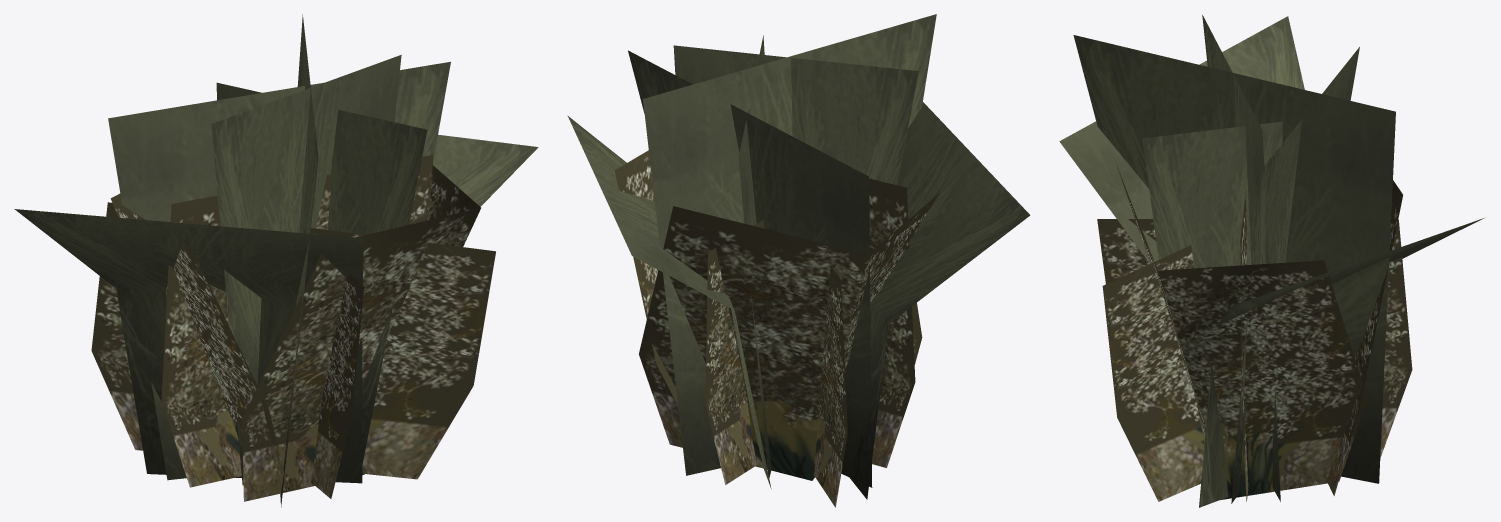
Rendered from pir_m_prp_vol_flower_bush_b.fbx.
3 views of the same model, side by side, from view 1: azimuth 30°, elevation 25°; view 2: azimuth 150°, elevation 25°; view 3: azimuth 270°, elevation 25° (orthographic). The views are drawn at different scales.
Visible parts, largest first — view 1: grass_plane05, bush_plane03, bush_plane04, grass_plane02, grass_plane03, bush_plane02, grass_plane01, bush_plane05, bush_plane01, grass_plane06, grass_plane04; view 2: bush_plane05, grass_plane04, grass_plane05, grass_plane03, grass_plane02, bush_plane01, grass_plane06, bush_plane02, bush_plane03, bush_plane04, grass_plane01; view 3: grass_plane04, bush_plane04, bush_plane03, grass_plane01, grass_plane05, bush_plane01, grass_plane03, grass_plane06, grass_plane02, bush_plane05, bush_plane02.
Boxes of the visible parts, bbox=[...] form: grass_plane05: bbox=[14, 209, 363, 483]; bush_plane03: bbox=[91, 202, 495, 479]; bush_plane04: bbox=[242, 165, 480, 501]; grass_plane02: bbox=[211, 55, 401, 485]; grass_plane03: bbox=[108, 61, 450, 480]; bush_plane02: bbox=[161, 155, 433, 487]; grass_plane01: bbox=[216, 82, 427, 464]; bush_plane05: bbox=[110, 193, 288, 491]; bush_plane01: bbox=[311, 274, 364, 498]; grass_plane06: bbox=[433, 134, 538, 206]; grass_plane04: bbox=[280, 14, 318, 507]; bush_plane05: bbox=[639, 193, 939, 480]; grass_plane04: bbox=[643, 14, 936, 475]; grass_plane05: bbox=[849, 102, 1030, 499]; grass_plane03: bbox=[628, 50, 872, 487]; grass_plane02: bbox=[673, 45, 918, 185]; bush_plane01: bbox=[705, 220, 764, 484]; grass_plane06: bbox=[567, 115, 771, 488]; bush_plane02: bbox=[869, 178, 915, 467]; bush_plane03: bbox=[814, 265, 847, 507]; bush_plane04: bbox=[614, 150, 922, 404]; grass_plane01: bbox=[738, 35, 771, 477]; grass_plane04: bbox=[1073, 35, 1395, 483]; bush_plane04: bbox=[1116, 163, 1367, 499]; bush_plane03: bbox=[1102, 245, 1204, 501]; grass_plane01: bbox=[1142, 121, 1282, 268]; grass_plane05: bbox=[1059, 16, 1304, 263]; bush_plane01: bbox=[1097, 219, 1412, 457]; grass_plane03: bbox=[1231, 47, 1359, 503]; grass_plane06: bbox=[1199, 218, 1484, 507]; grass_plane02: bbox=[1202, 15, 1280, 501]; bush_plane05: bbox=[1327, 180, 1402, 495]; bush_plane02: bbox=[1240, 190, 1248, 501].
Size of the model in its own units: 874 by 666 by 633.
1 material, 1 textured.
